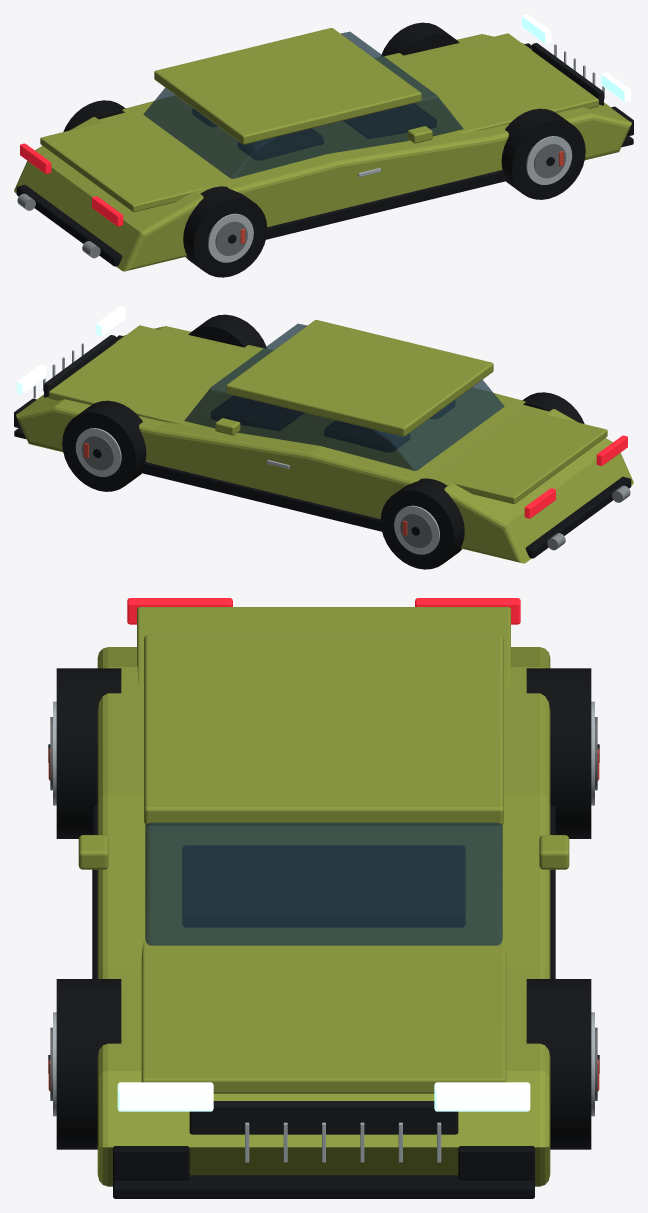
The model's file is lambo_sian_fkp_37.glb.
The picture shows the model from 3 angles, top to bottom: view 1: azimuth 30°, elevation 25°; view 2: azimuth 150°, elevation 25°; view 3: azimuth 270°, elevation 25°; orthographic projection. The views are drawn at different scales.
Parts seen in each view (by area): view 1: sculpted_body, roof, hood_center, glasshouse, rear_deck, front_right_wheel_tire, rear_right_wheel_tire, side_skirt_1, dashboard, front_left_wheel_tire, rear_diffuser, seat_1 (+10 smaller); view 2: sculpted_body, roof, hood_center, glasshouse, rear_deck, front_left_wheel_tire, rear_left_wheel_tire, side_skirt_-1, dashboard, front_right_wheel_tire, rear_diffuser, seat_-1 (+10 smaller); view 3: sculpted_body, roof, hood_center, glasshouse, dashboard, rear_deck, front_splitter, front_left_wheel_tire, front_right_wheel_tire, front_grille, rear_left_wheel_tire, rear_right_wheel_tire (+10 smaller).
Boxes of the visible parts, x1,y1,x2,y2 form: sculpted_body: [14, 34, 631, 271]; roof: [154, 28, 421, 144]; hood_center: [383, 33, 598, 133]; glasshouse: [143, 31, 463, 178]; rear_deck: [40, 117, 215, 212]; front_right_wheel_tire: [501, 108, 585, 199]; rear_right_wheel_tire: [183, 186, 267, 277]; side_skirt_1: [266, 170, 507, 239]; dashboard: [344, 104, 436, 138]; front_left_wheel_tire: [381, 22, 459, 56]; rear_diffuser: [16, 184, 122, 266]; seat_1: [238, 129, 323, 159]; sculpted_body: [16, 326, 633, 563]; roof: [226, 320, 493, 436]; hood_center: [49, 325, 264, 425]; glasshouse: [184, 323, 504, 470]; rear_deck: [432, 409, 607, 504]; front_left_wheel_tire: [62, 400, 146, 491]; rear_left_wheel_tire: [380, 478, 464, 569]; side_skirt_-1: [140, 462, 381, 531]; dashboard: [211, 396, 303, 430]; front_right_wheel_tire: [188, 314, 266, 348]; rear_diffuser: [525, 476, 631, 558]; seat_-1: [324, 421, 409, 451]; sculpted_body: [97, 647, 550, 1186]; roof: [144, 635, 503, 824]; hood_center: [141, 939, 506, 1093]; glasshouse: [145, 822, 502, 945]; dashboard: [183, 846, 464, 926]; rear_deck: [137, 607, 510, 687]; front_splitter: [113, 1175, 534, 1198]; front_left_wheel_tire: [526, 979, 591, 1149]; front_right_wheel_tire: [56, 979, 121, 1149]; front_grille: [189, 1101, 458, 1134]; rear_left_wheel_tire: [526, 668, 591, 838]; rear_right_wheel_tire: [56, 668, 121, 838].
Bounding box in the file's own units: 5.32 × 1.11 × 2.39.
